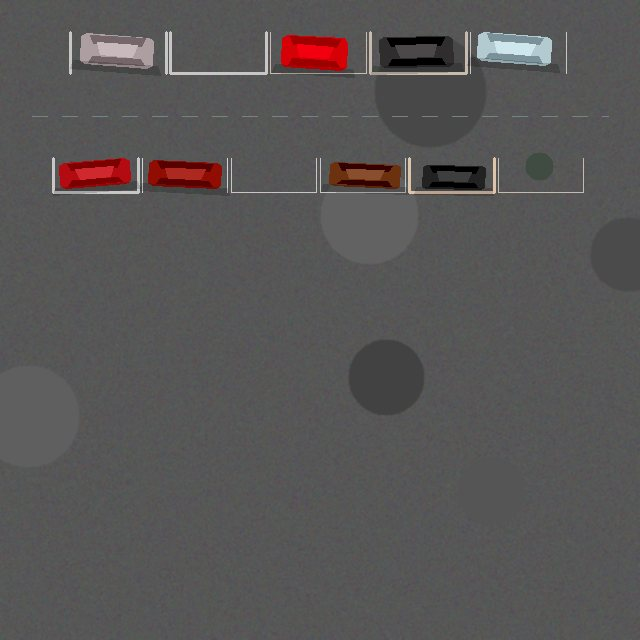space-empty: (170, 32, 266, 73), (231, 158, 316, 192), (498, 158, 583, 192)
space-occupied: (70, 32, 166, 73), (270, 32, 366, 73), (370, 32, 466, 73), (470, 32, 566, 73), (53, 158, 138, 192), (142, 158, 227, 192), (320, 158, 405, 192), (409, 158, 494, 192)
